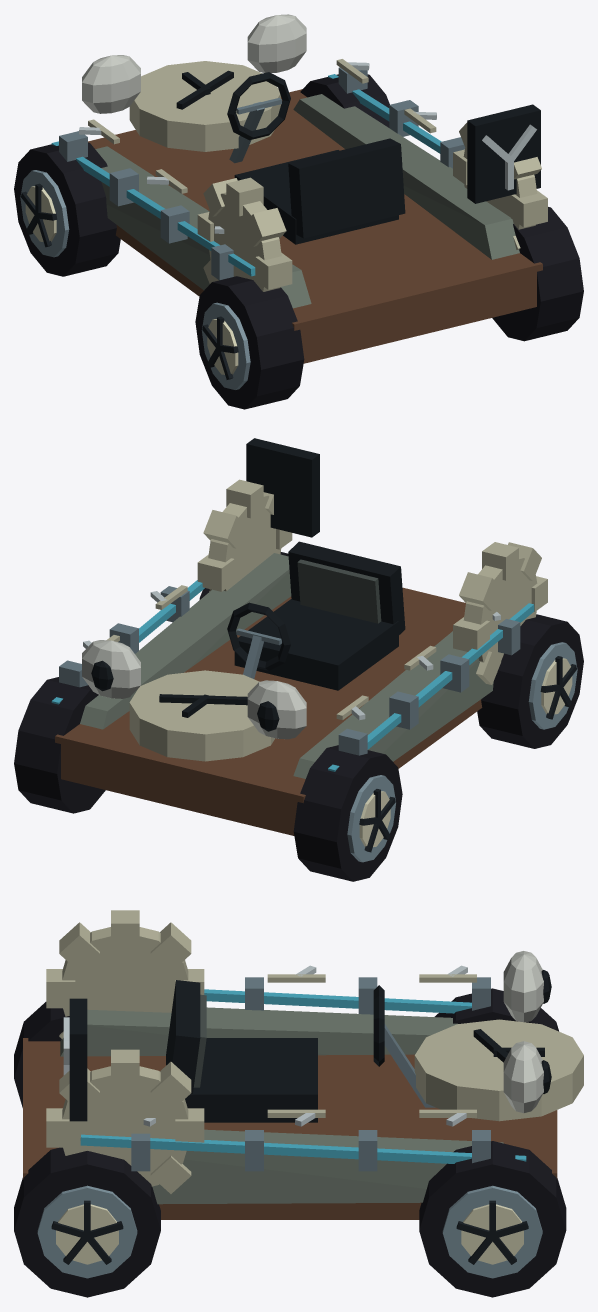
Rendered from kart.glb.
3 views of the same model, one above another, from view 1: azimuth 30°, elevation 25°; view 2: azimuth 150°, elevation 25°; view 3: azimuth 270°, elevation 25° (orthographic). The views are drawn at different scales.
Visible parts, largest first — view 1: identity-clockwork-clockwork-brass-escapement, identity-clockwork-driver-cockpit, identity-clockwork-motif-flux-coils, wheel-rear-left, wheel-front-left, wheel-rear-right, identity-clockwork-motif-eyes, identity-clockwork-motif-runes, wheel-front-right; view 2: identity-clockwork-clockwork-brass-escapement, identity-clockwork-driver-cockpit, identity-clockwork-motif-flux-coils, wheel-front-left, wheel-rear-left, wheel-front-right, identity-clockwork-motif-eyes, identity-clockwork-motif-runes; view 3: identity-clockwork-clockwork-brass-escapement, wheel-front-right, wheel-rear-right, identity-clockwork-driver-cockpit, identity-clockwork-motif-flux-coils, identity-clockwork-motif-eyes, identity-clockwork-motif-runes, wheel-rear-left, wheel-front-left.
Boxes of the visible parts, box(x1,y1,x2,y2) form: identity-clockwork-clockwork-brass-escapement: box(88, 61, 547, 363); identity-clockwork-driver-cockpit: box(227, 72, 405, 244); identity-clockwork-motif-flux-coils: box(51, 67, 540, 280); wheel-rear-left: box(195, 276, 304, 409); wheel-front-left: box(14, 142, 120, 276); wheel-rear-right: box(492, 207, 583, 341); identity-clockwork-motif-eyes: box(82, 14, 306, 113); identity-clockwork-motif-runes: box(79, 59, 436, 233); wheel-front-right: box(300, 74, 389, 127); identity-clockwork-clockwork-brass-escapement: box(55, 479, 547, 835); identity-clockwork-driver-cockpit: box(227, 541, 405, 690); identity-clockwork-motif-flux-coils: box(51, 438, 534, 771); wheel-front-left: box(293, 745, 402, 881); wheel-rear-left: box(477, 614, 583, 748); wheel-front-right: box(14, 677, 105, 813); identity-clockwork-motif-eyes: box(82, 640, 306, 739); identity-clockwork-motif-runes: box(83, 585, 500, 720); identity-clockwork-clockwork-brass-escapement: box(23, 910, 583, 1219); wheel-front-right: box(419, 1141, 566, 1297); wheel-rear-right: box(14, 1147, 160, 1297); identity-clockwork-driver-cockpit: box(166, 980, 435, 1122); identity-clockwork-motif-flux-coils: box(63, 977, 526, 1171); identity-clockwork-motif-eyes: box(503, 951, 551, 1113); identity-clockwork-motif-runes: box(143, 965, 476, 1126); wheel-rear-left: box(14, 1002, 69, 1107); wheel-front-left: box(434, 988, 558, 1031).
Bounding box in the file's own units: 1.99 × 1.26 × 2.56.
